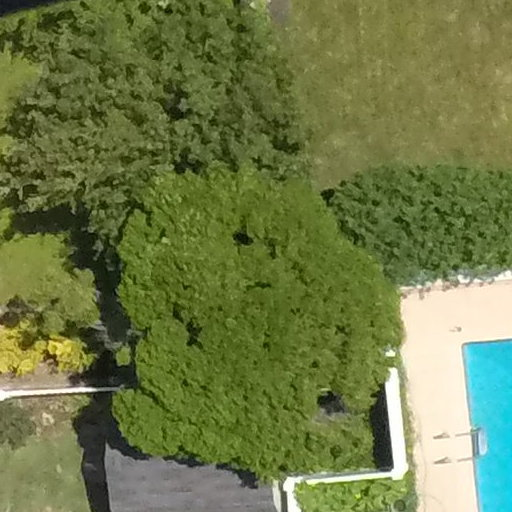pool: (376, 272, 512, 511)
